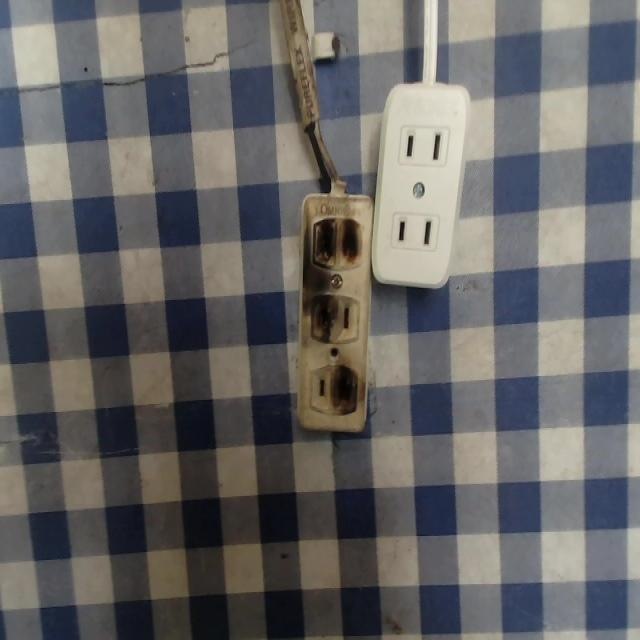-: (305, 215, 366, 281), (302, 291, 340, 345), (325, 356, 357, 413)
